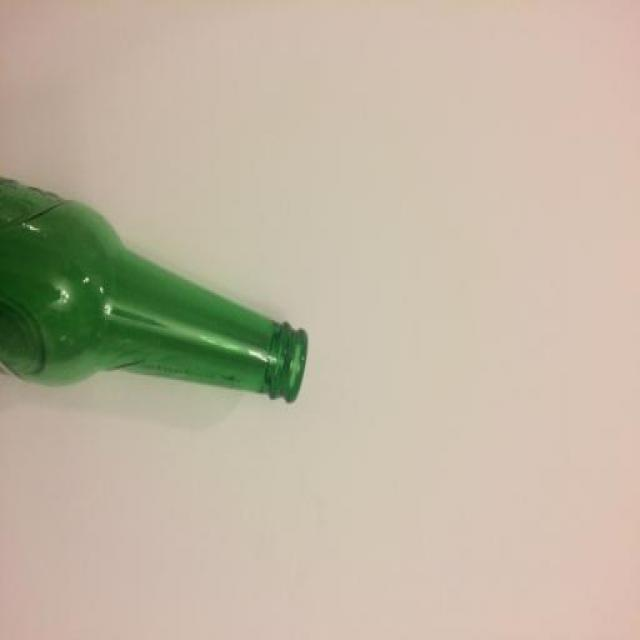glass: (0, 172, 309, 406)
